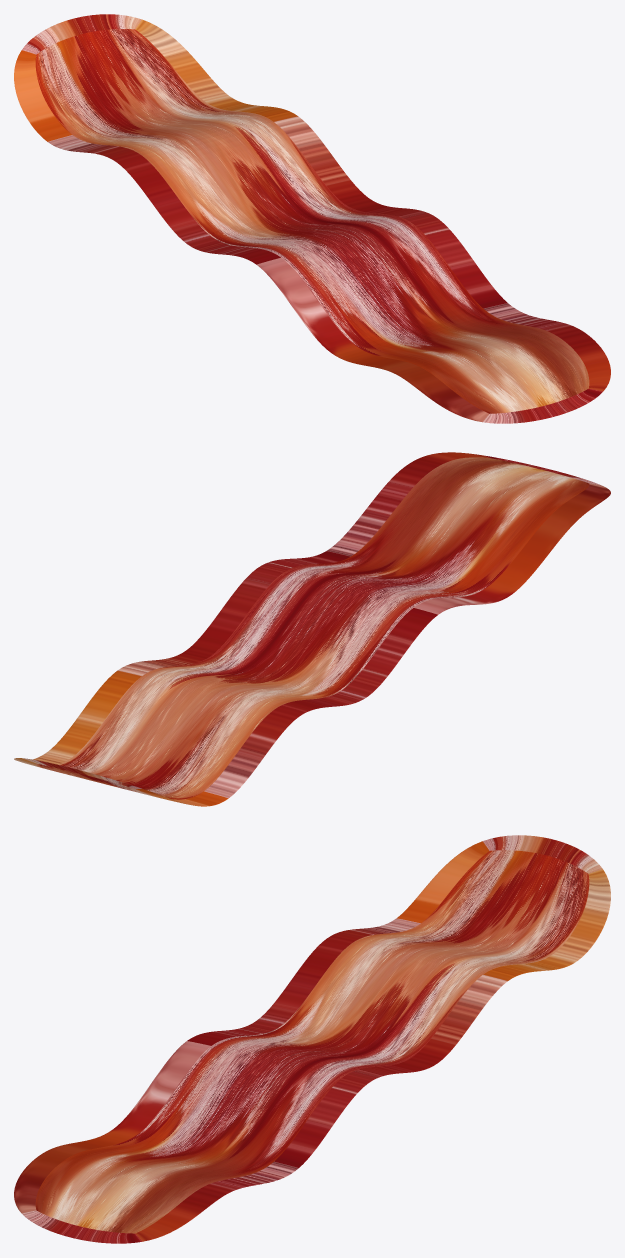
Rendered from bacon.glb.
3 renders of one model, top to bottom at view 1: azimuth 30°, elevation 25°; view 2: azimuth 150°, elevation 25°; view 3: azimuth 330°, elevation 25°, orthographic.
Visible parts, largest first — view 1: Plane; view 2: Plane; view 3: Plane.
Boxes of the visible parts, x1,y1,x2,y2 form: Plane: (14,14,610,423); Plane: (14,452,610,806); Plane: (14,835,610,1243).
Bounding box in the file's own units: 1.84 × 0.5662 × 8.34.
Materials: 1 (1 with a texture image).
